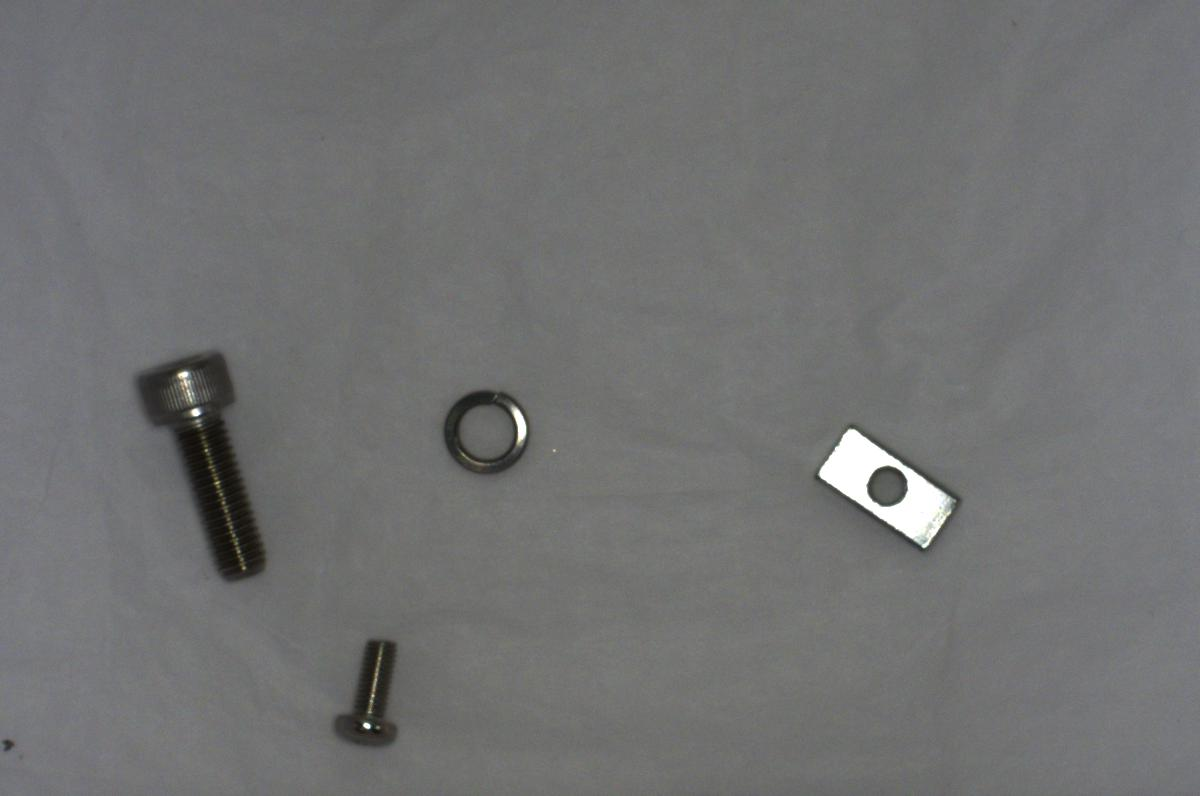Hexagon screw: (130, 341, 277, 583)
Rectangular nut: (810, 422, 961, 555)
Round head screw: (334, 633, 405, 743)
Spring washer: (432, 385, 541, 474)
